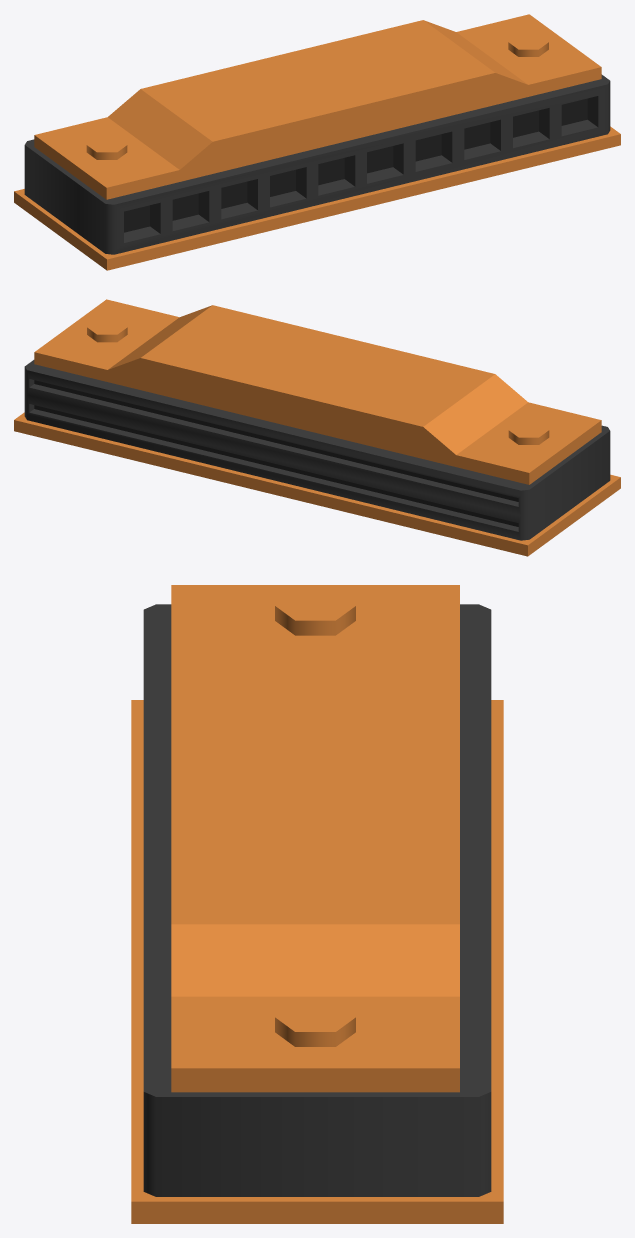
File: Harmonica_01.fbx
The picture shows the model from 3 angles, top to bottom: view 1: azimuth 30°, elevation 25°; view 2: azimuth 150°, elevation 25°; view 3: azimuth 270°, elevation 25°; orthographic projection. The views are drawn at different scales.
Visible parts, largest first — view 1: Harmonica_01; view 2: Harmonica_01; view 3: Harmonica_01.
Boxes of the visible parts, x1=… form: Harmonica_01: x1=14, y1=14, x2=620, y2=270; Harmonica_01: x1=14, y1=299, x2=620, y2=556; Harmonica_01: x1=131, y1=585, x2=503, y2=1223.
Bounding box in the file's own units: 0.2112 × 0.0367 × 0.0663.
